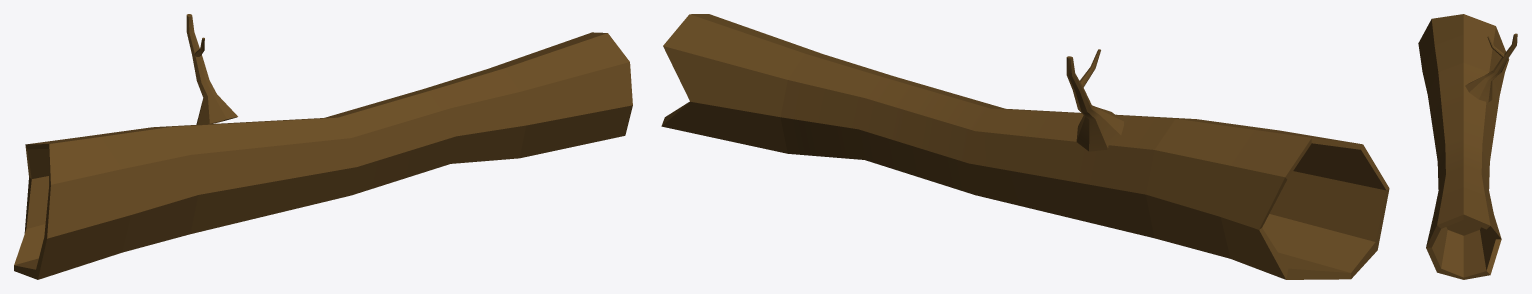
Rendered from asset_deadtrunks_03.fbx.
3 views of the same model, side by side, from view 1: azimuth 30°, elevation 25°; view 2: azimuth 150°, elevation 25°; view 3: azimuth 270°, elevation 25° (orthographic). The views are drawn at different scales.
Parts seen in each view (by area): view 1: Dead_Trunc03; view 2: Dead_Trunc03; view 3: Dead_Trunc03.
Part boxes in pixels (bbox=[...]): Dead_Trunc03: bbox=[14, 14, 632, 279]; Dead_Trunc03: bbox=[661, 14, 1389, 279]; Dead_Trunc03: bbox=[1418, 14, 1517, 279].
Size of the model in its own units: 540 by 152 by 115.
